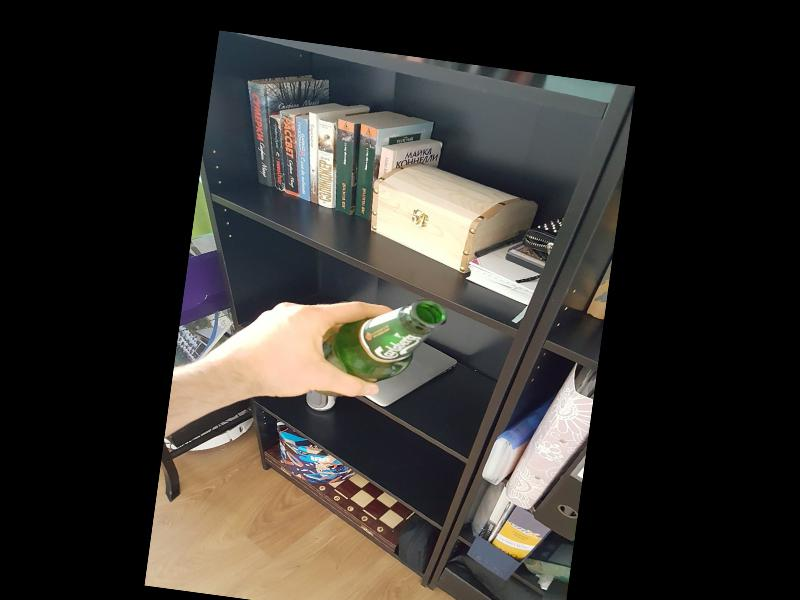Beer: (307, 286, 449, 410)
